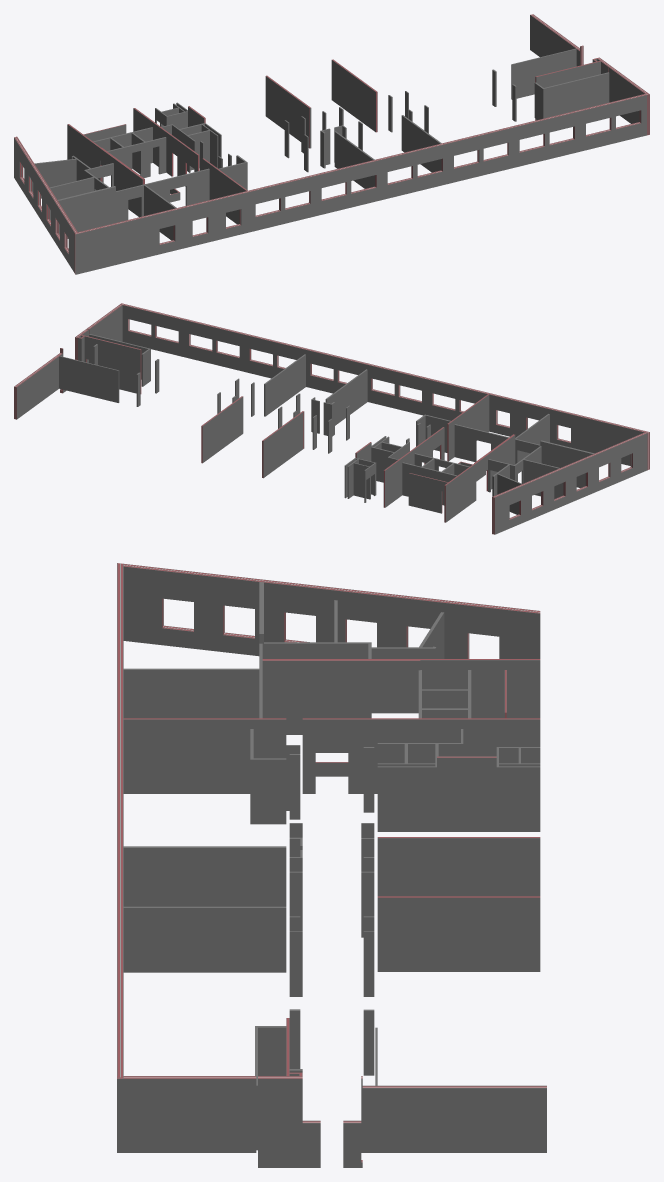
The model's file is Building Model - Excavation and Trench - updated_1kn71nZ$z5OvtVVlfMoOno-Piso 0_IfcWallStandardCase.dae.
The picture shows the model from 3 angles, top to bottom: view 1: azimuth 30°, elevation 25°; view 2: azimuth 150°, elevation 25°; view 3: azimuth 270°, elevation 25°; orthographic projection. The views are drawn at different scales.
Visible parts, largest first — view 1: 0jFAAIDIf1MvwbwQYdFy9u, 0jFAAIDIf1MvwbwQYdFy9$, 2buzoDKVrBkOdnNcAh5xTS, 2buzoDKVrBkOdnNcAh5xD5, 2buzoDKVrBkOdnNcAh5rch, 1HhE7HlUL2gfc49YdHeeXT, 20AV2s6x92QAtIfYCtAdOw, 1HhE7HlUL2gfc49YdHeede, 1HhE7HlUL2gfc49YdHefRQ, 1YigJ5bnD2GRkRsbvXLIK4, 20AV2s6x92QAtIfYCtAWEJ, 2buzoDKVrBkOdnNcAh5rWU (+12 smaller); view 2: 0jFAAIDIf1MvwbwQYdFy9u, 0jFAAIDIf1MvwbwQYdFy9$, 2buzoDKVrBkOdnNcAh5xTS, 1HhE7HlUL2gfc49YdHefRQ, 2wgmsEYab0lBNqgH$nhY$Z, 1HhE7HlUL2gfc49YdHeeXT, 1HhE7HlUL2gfc49YdHeede, 1YigJ5bnD2GRkRsbvXLIK4, 2buzoDKVrBkOdnNcAh5xJF, 2buzoDKVrBkOdnNcAh5rch, 20AV2s6x92QAtIfYCtAWBQ, 1HhE7HlUL2gfc49YdHehGZ (+14 smaller); view 3: 0jFAAIDIf1MvwbwQYdFy9$, 2buzoDKVrBkOdnNcAh5xTS, 1YigJ5bnD2GRkRsbvXLIK4, 1HhE7HlUL2gfc49YdHeeXT, 2buzoDKVrBkOdnNcAh5xJF, 0jFAAIDIf1MvwbwQYdFy9v, 2buzoDKVrBkOdnNcAh5wWs, 1HhE7HlUL2gfc49YdHeede, 2buzoDKVrBkOdnNcAh5rWU, 2buzoDKVrBkOdnNcAh5rhA, 1YigJ5bnD2GRkRsbvXLIIn, 20AV2s6x92QAtIfYCtAWBQ (+11 smaller).
Part boxes in pixels (bbox=[...]): 0jFAAIDIf1MvwbwQYdFy9u: bbox=[74, 93, 649, 274]; 0jFAAIDIf1MvwbwQYdFy9$: bbox=[14, 136, 77, 272]; 2buzoDKVrBkOdnNcAh5xTS: bbox=[133, 108, 247, 224]; 2buzoDKVrBkOdnNcAh5xD5: bbox=[544, 72, 609, 117]; 2buzoDKVrBkOdnNcAh5rch: bbox=[116, 168, 209, 222]; 1HhE7HlUL2gfc49YdHeeXT: bbox=[331, 59, 377, 132]; 20AV2s6x92QAtIfYCtAdOw: bbox=[57, 186, 115, 238]; 1HhE7HlUL2gfc49YdHeede: bbox=[265, 75, 311, 148]; 1HhE7HlUL2gfc49YdHefRQ: bbox=[511, 48, 576, 99]; 1YigJ5bnD2GRkRsbvXLIK4: bbox=[530, 14, 579, 66]; 20AV2s6x92QAtIfYCtAWEJ: bbox=[102, 137, 166, 182]; 2buzoDKVrBkOdnNcAh5rWU: bbox=[100, 148, 144, 217]; 0jFAAIDIf1MvwbwQYdFy9u: bbox=[120, 303, 649, 469]; 0jFAAIDIf1MvwbwQYdFy9$: bbox=[492, 432, 647, 534]; 2buzoDKVrBkOdnNcAh5xTS: bbox=[383, 394, 489, 507]; 1HhE7HlUL2gfc49YdHefRQ: bbox=[59, 356, 119, 402]; 2wgmsEYab0lBNqgH$nhY$Z: bbox=[81, 335, 141, 393]; 1HhE7HlUL2gfc49YdHeeXT: bbox=[201, 396, 243, 463]; 1HhE7HlUL2gfc49YdHeede: bbox=[262, 411, 304, 478]; 1YigJ5bnD2GRkRsbvXLIK4: bbox=[14, 353, 62, 419]; 2buzoDKVrBkOdnNcAh5xJF: bbox=[264, 354, 305, 416]; 2buzoDKVrBkOdnNcAh5rch: bbox=[454, 424, 540, 463]; 20AV2s6x92QAtIfYCtAWBQ: bbox=[444, 463, 475, 522]; 1HhE7HlUL2gfc49YdHehGZ: bbox=[408, 473, 447, 513]; 0jFAAIDIf1MvwbwQYdFy9$: bbox=[123, 564, 540, 658]; 2buzoDKVrBkOdnNcAh5xTS: bbox=[123, 718, 540, 793]; 1YigJ5bnD2GRkRsbvXLIK4: bbox=[362, 1085, 546, 1152]; 1HhE7HlUL2gfc49YdHeeXT: bbox=[377, 896, 540, 971]; 2buzoDKVrBkOdnNcAh5xJF: bbox=[123, 906, 286, 972]; 0jFAAIDIf1MvwbwQYdFy9v: bbox=[123, 1076, 256, 1152]; 2buzoDKVrBkOdnNcAh5wWs: bbox=[123, 846, 286, 906]; 1HhE7HlUL2gfc49YdHeede: bbox=[377, 837, 540, 896]; 2buzoDKVrBkOdnNcAh5rWU: bbox=[262, 659, 420, 734]; 2buzoDKVrBkOdnNcAh5rhA: bbox=[123, 668, 259, 718]; 1YigJ5bnD2GRkRsbvXLIIn: bbox=[258, 1076, 362, 1167]; 20AV2s6x92QAtIfYCtAWBQ: bbox=[420, 659, 540, 718].
Size of the model in its own units: 52.13 by 18.36 by 4.2.
